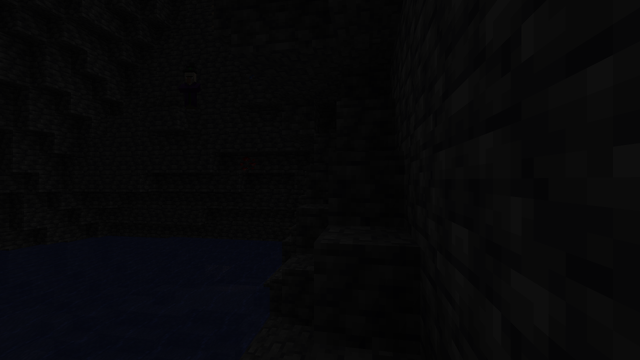sorcieres: (182, 69, 197, 111)
